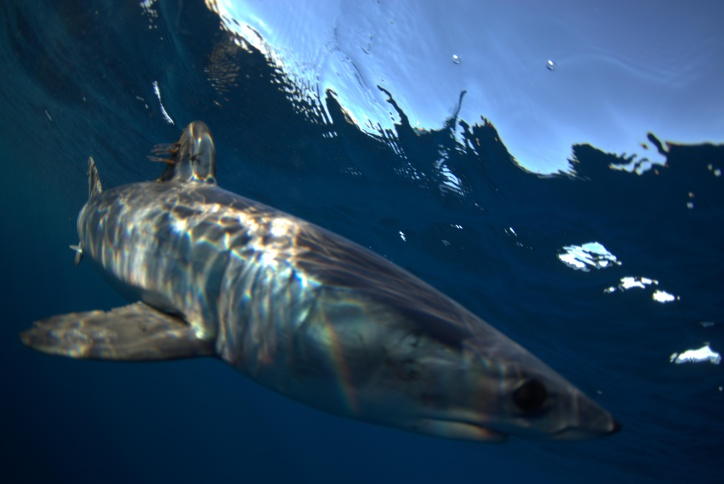Mako: (16, 120, 626, 455)
